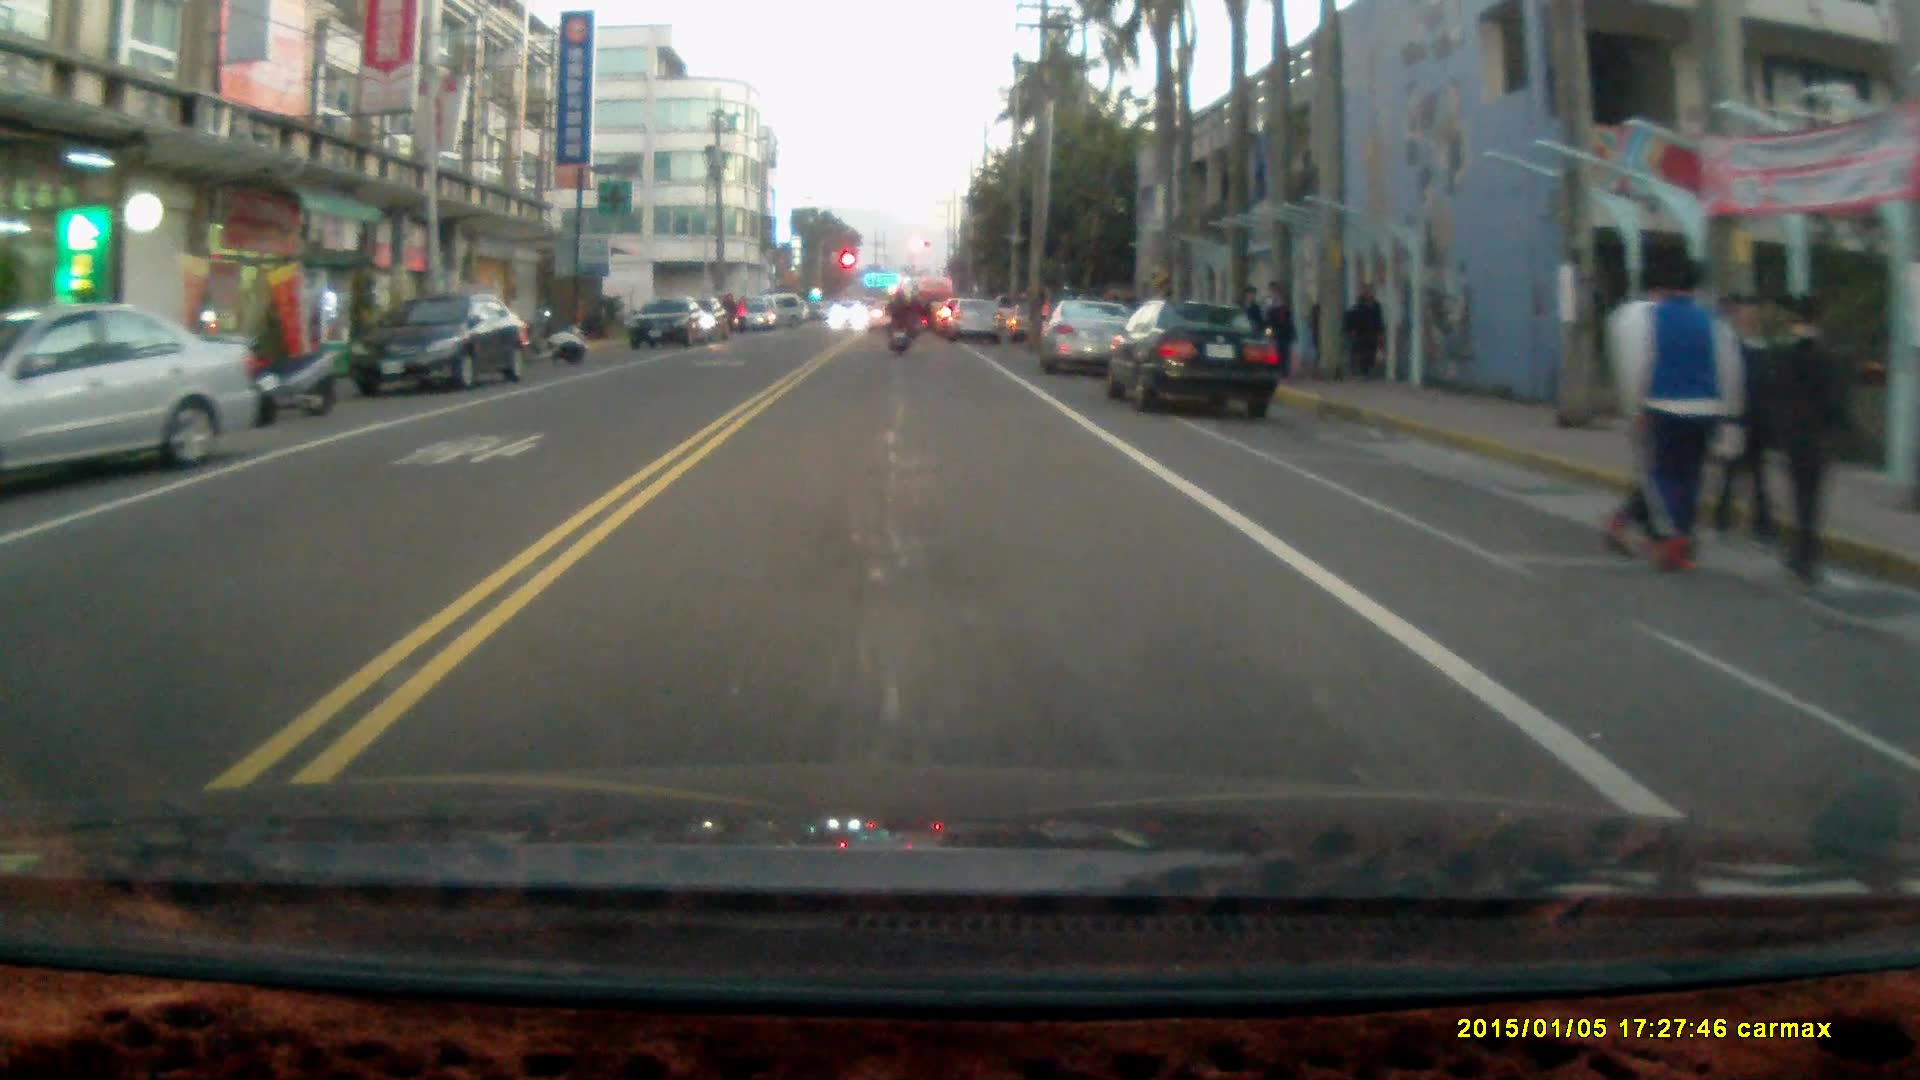pedestrian: (1613, 253, 1744, 579), (1763, 290, 1849, 592), (1602, 277, 1686, 557), (1706, 290, 1782, 551), (1344, 281, 1387, 387), (1262, 287, 1296, 378)
rider: (883, 286, 914, 358)
vehicle: (1, 302, 261, 494), (1106, 296, 1284, 418), (354, 292, 529, 398), (1040, 298, 1142, 379), (626, 298, 720, 354), (953, 297, 1008, 342)
